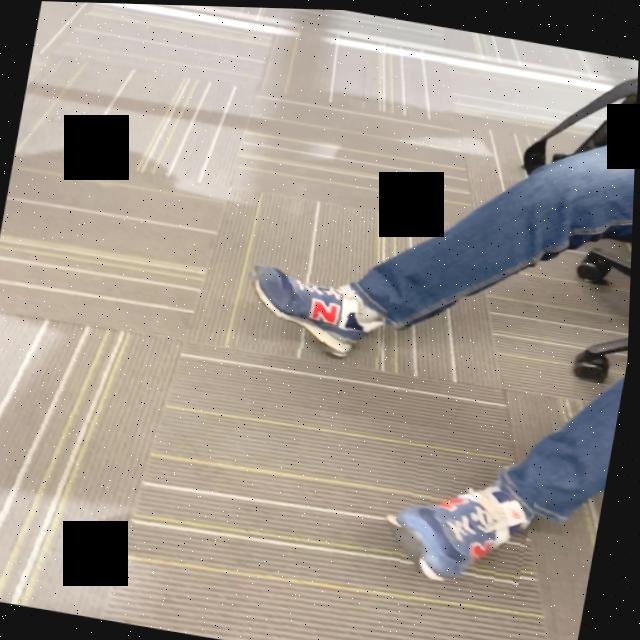shoe: (401, 478, 536, 579), (254, 265, 389, 353)
